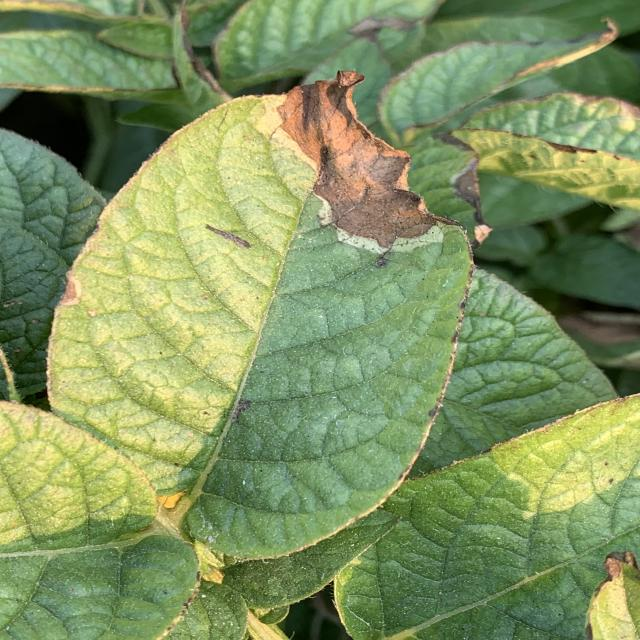lateblight: (278, 71, 440, 250)
